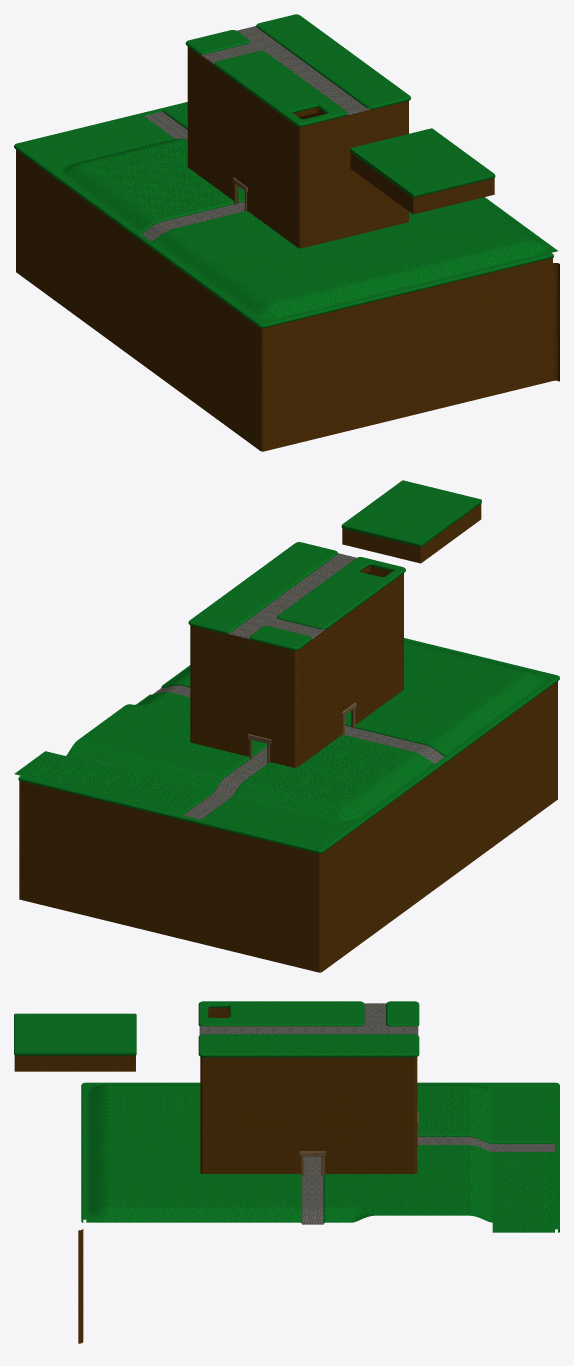
The model's file is WonderLand2.obj.
3 views of the same model, one above another, from view 1: azimuth 30°, elevation 25°; view 2: azimuth 150°, elevation 25°; view 3: azimuth 270°, elevation 25° (orthographic). The views are drawn at different scales.
Visible parts, largest first — view 1: Dirt_Wall.066_Dirt_Wall.106, Dirt_Wall.070_Dirt_Wall.100, Grass.015_Grass.053, Dirt_Wall.005_Dirt_Wall.110, Grass.038_Grass.041, Dirt_Wall.024_Dirt_Wall.114, Dirt_Wall.007_Dirt_Wall.116, Grass.033_Grass.046, Grass.044_Grass.019, Grass.042_Grass.038, Grass.004_Grass.055, Dirt_Wall.065_Dirt_Wall.107 (+18 smaller); view 2: Dirt_Wall.075_Dirt_Wall.097, Dirt_Wall.070_Dirt_Wall.100, Grass.015_Grass.053, Dirt_Wall.001_Dirt_Wall.113, Grass.038_Grass.041, Dirt_Wall.024_Dirt_Wall.114, Grass.006_Grass.052, Grass.041_Grass.039, Dirt_Wall.007_Dirt_Wall.116, Grass.044_Grass.019, Grass.042_Grass.038, Grass.004_Grass.055 (+19 smaller); view 3: Grass.015_Grass.053, Dirt_Wall.014_Dirt_Wall.116, Dirt_Wall.012_Dirt_Wall.114, Grass.006_Grass.052, Grass.041_Grass.039, Grass.044_Grass.019, Grass.004_Grass.055, Grass.042_Grass.038, Grass.023_Grass.049, Grass.033_Grass.046, Dirt_Wall.002_Dirt_Wall.115, Grass.007_Grass.054 (+18 smaller).
Part boxes in pixels (x1,y1,x2,y2): Dirt_Wall.066_Dirt_Wall.106: (264,263,552,451); Dirt_Wall.070_Dirt_Wall.100: (16,155,260,450); Grass.015_Grass.053: (174,200,524,301); Dirt_Wall.005_Dirt_Wall.110: (302,106,407,248); Grass.038_Grass.041: (85,141,244,218); Dirt_Wall.024_Dirt_Wall.114: (249,96,297,247); Dirt_Wall.007_Dirt_Wall.116: (188,51,232,199); Grass.033_Grass.046: (272,240,536,317); Grass.044_Grass.019: (352,129,492,193); Grass.042_Grass.038: (19,115,170,168); Grass.004_Grass.055: (261,16,405,104); Dirt_Wall.065_Dirt_Wall.107: (263,253,553,333); Dirt_Wall.075_Dirt_Wall.097: (19,786,318,972); Dirt_Wall.070_Dirt_Wall.100: (322,686,557,971); Grass.015_Grass.053: (184,644,522,741); Dirt_Wall.001_Dirt_Wall.113: (192,631,246,755); Grass.038_Grass.041: (247,736,412,804); Dirt_Wall.024_Dirt_Wall.114: (356,578,403,723); Grass.006_Grass.052: (98,693,263,774); Grass.041_Grass.039: (14,751,207,813); Dirt_Wall.007_Dirt_Wall.116: (297,624,340,766); Grass.044_Grass.019: (343,481,479,543); Grass.042_Grass.038: (204,797,350,848); Grass.004_Grass.055: (193,543,332,628); Grass.015_Grass.053: (109,1087,297,1205); Dirt_Wall.014_Dirt_Wall.116: (203,1062,297,1173); Dirt_Wall.012_Dirt_Wall.114: (328,1062,414,1173); Grass.006_Grass.052: (328,1146,468,1205); Grass.041_Grass.039: (492,1153,554,1232); Grass.044_Grass.019: (16,1014,134,1051); Grass.004_Grass.055: (203,1036,414,1052); Grass.042_Grass.038: (492,1084,554,1140); Grass.023_Grass.049: (109,1205,297,1222); Grass.033_Grass.046: (86,1087,109,1212); Dirt_Wall.002_Dirt_Wall.115: (297,1062,328,1147); Grass.007_Grass.054: (234,1002,359,1022).
Size of the model in its own units: 45.62 by 35.25 by 69.86.
Materials: 110 (110 with a texture image).
